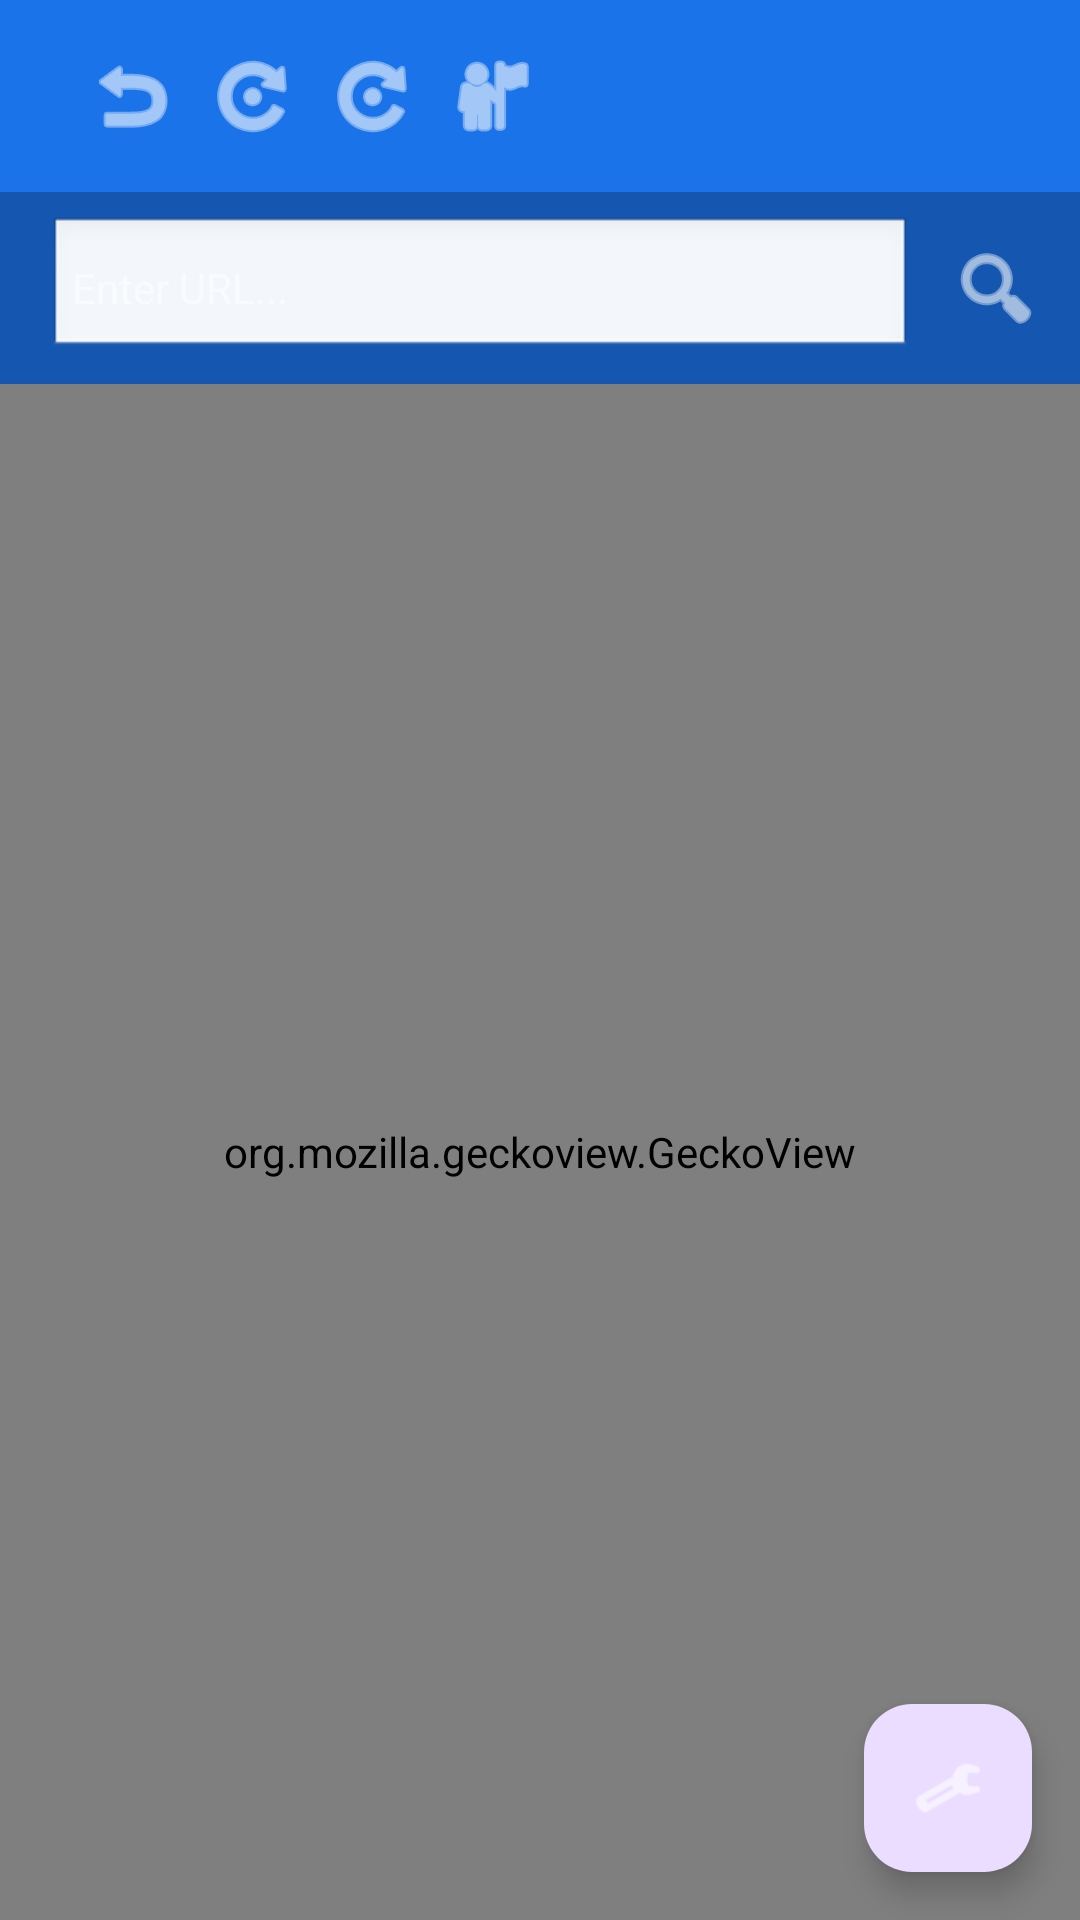

Point at icon controls on the screen. Image size 1080px x 1920px, points as (x=x, y=y).
Back: (x=133, y=96)
Extensions: (x=948, y=1788)
Go: (x=996, y=288)
Refresh: (x=372, y=96)
